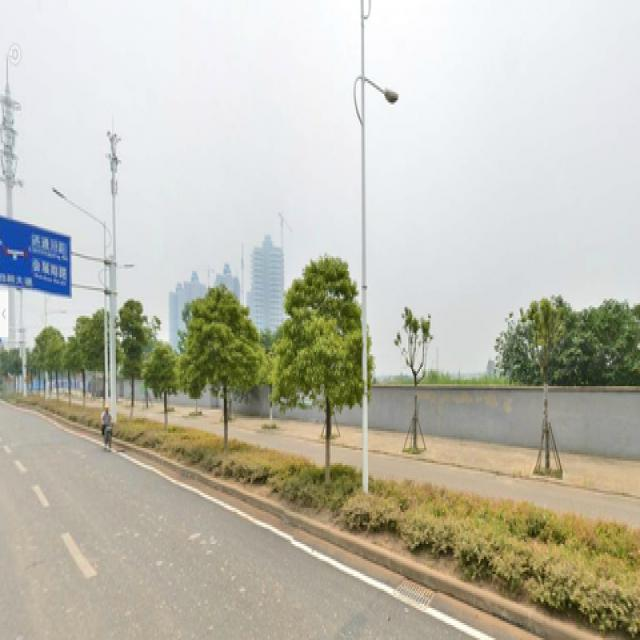cinn: (284, 267, 360, 478), (191, 286, 249, 435), (150, 341, 178, 418)
